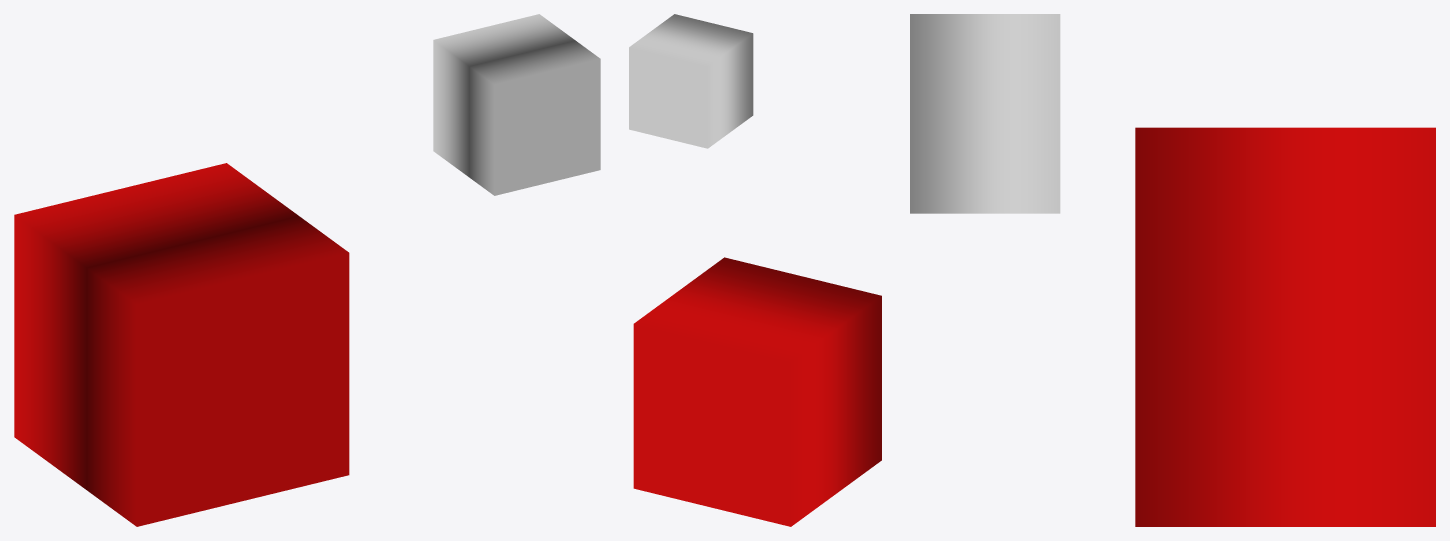
The model's file is second_stage.glb.
The picture shows the model from 3 angles, left to right: view 1: azimuth 30°, elevation 25°; view 2: azimuth 150°, elevation 25°; view 3: azimuth 270°, elevation 25°; orthographic projection. The views are drawn at different scales.
Parts seen in each view (by area): view 1: Box, Small_Box; view 2: Box, Small_Box; view 3: Box, Small_Box.
Boxes of the visible parts, left/top/right/bottom form: Box: left=14, top=163, right=349, bottom=526; Small_Box: left=433, top=14, right=600, bottom=195; Box: left=633, top=257, right=881, bottom=526; Small_Box: left=629, top=14, right=753, bottom=148; Box: left=1135, top=127, right=1435, bottom=526; Small_Box: left=910, top=14, right=1060, bottom=213.
Size of the model in its own units: 7 by 8 by 7.
